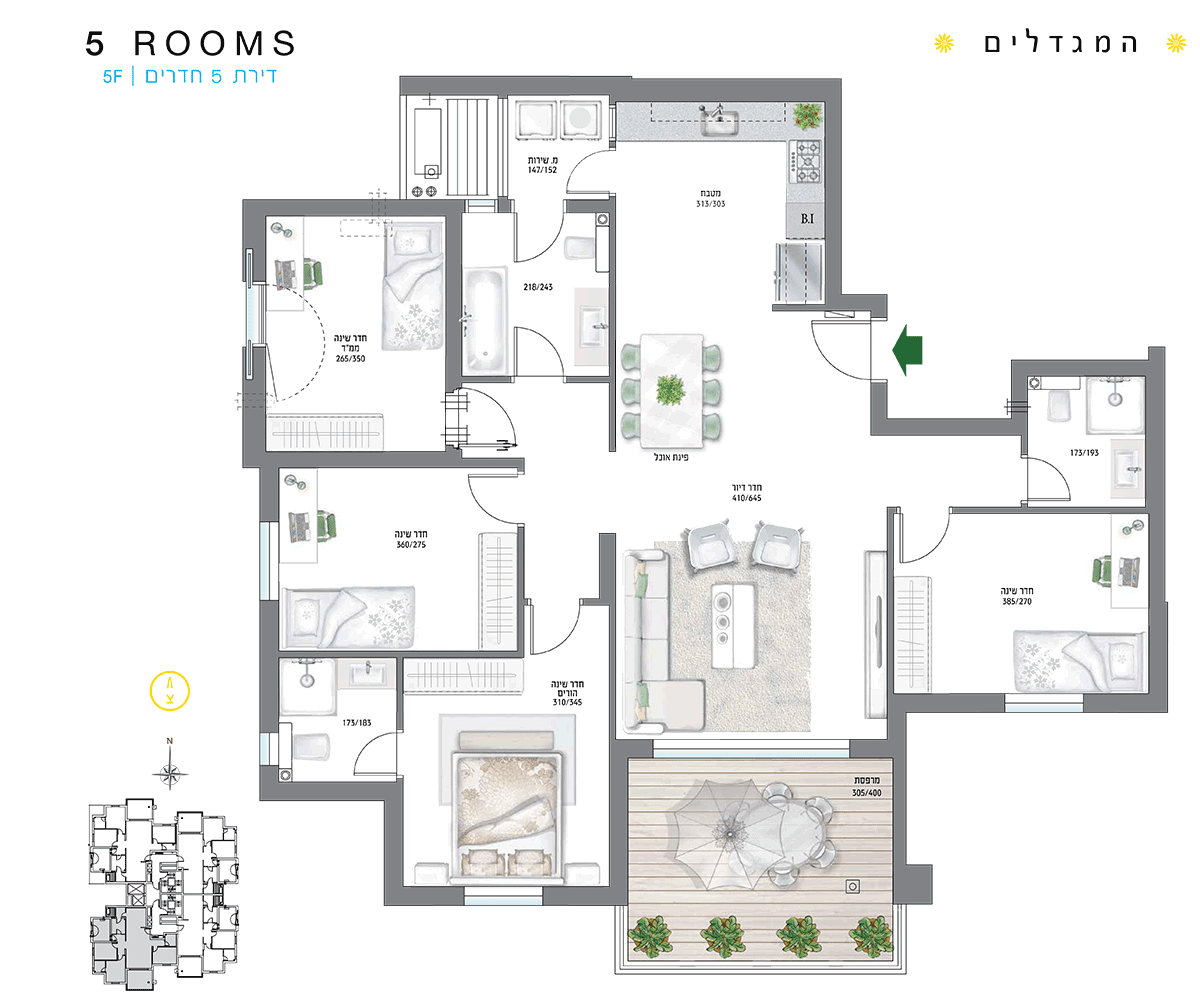door: (805, 319, 862, 394), (525, 606, 586, 660), (897, 520, 957, 566), (457, 472, 509, 522), (1028, 448, 1074, 500), (511, 220, 560, 268), (508, 322, 563, 362), (349, 732, 386, 780)
wall: (1143, 360, 1169, 711), (380, 782, 405, 905), (891, 692, 997, 711)
window: (651, 739, 846, 760), (1006, 694, 1085, 714), (462, 888, 548, 905), (259, 519, 277, 600), (259, 732, 280, 765)
